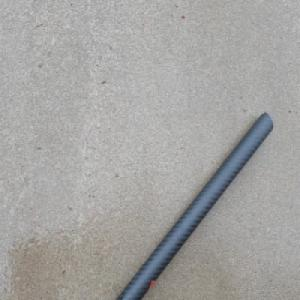LuggagePart: (114, 108, 272, 300)
